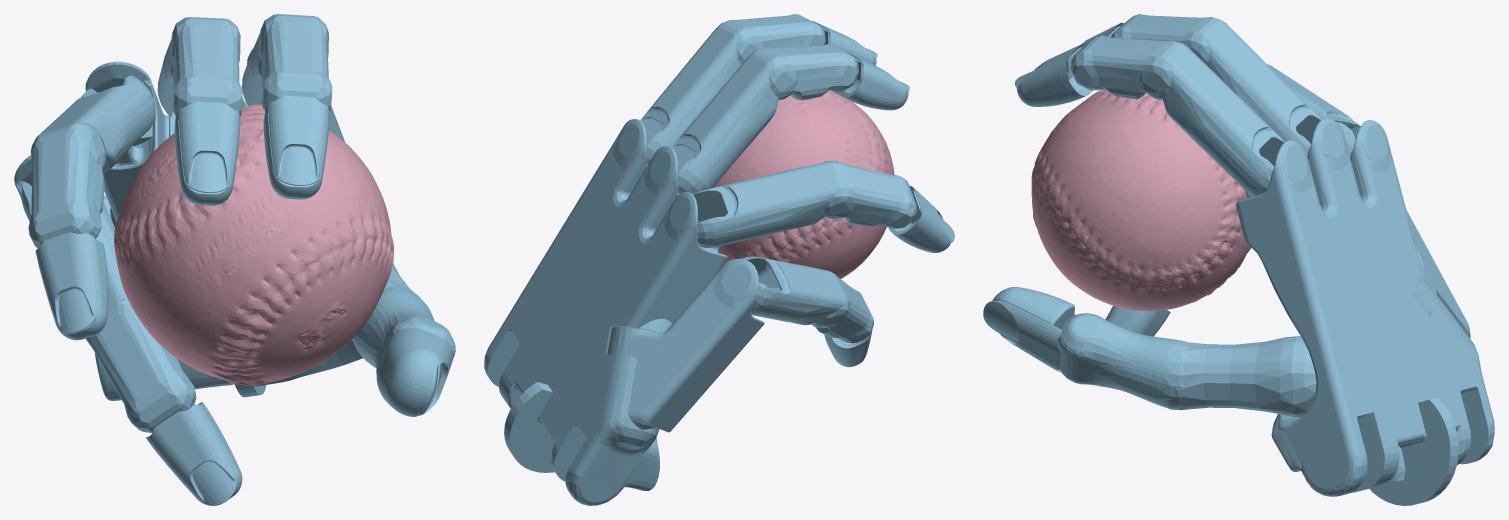
3 views of the same model, side by side, from view 1: azimuth 30°, elevation 25°; view 2: azimuth 150°, elevation 25°; view 3: azimuth 270°, elevation 25° (orthographic). The views are drawn at different scales.
Parts seen in each view (by area): view 1: world, baseball.stl; view 2: world, baseball.stl; view 3: world, baseball.stl.
Part boxes in pixels (x1,y1,x2,y2): world: (14, 14, 455, 505); baseball.stl: (114, 104, 393, 385); world: (484, 14, 954, 505); baseball.stl: (703, 90, 894, 278); world: (983, 14, 1494, 505); baseball.stl: (1031, 89, 1249, 311).
Bounding box in the file's own units: 0.1442 × 0.146 × 0.1623.
